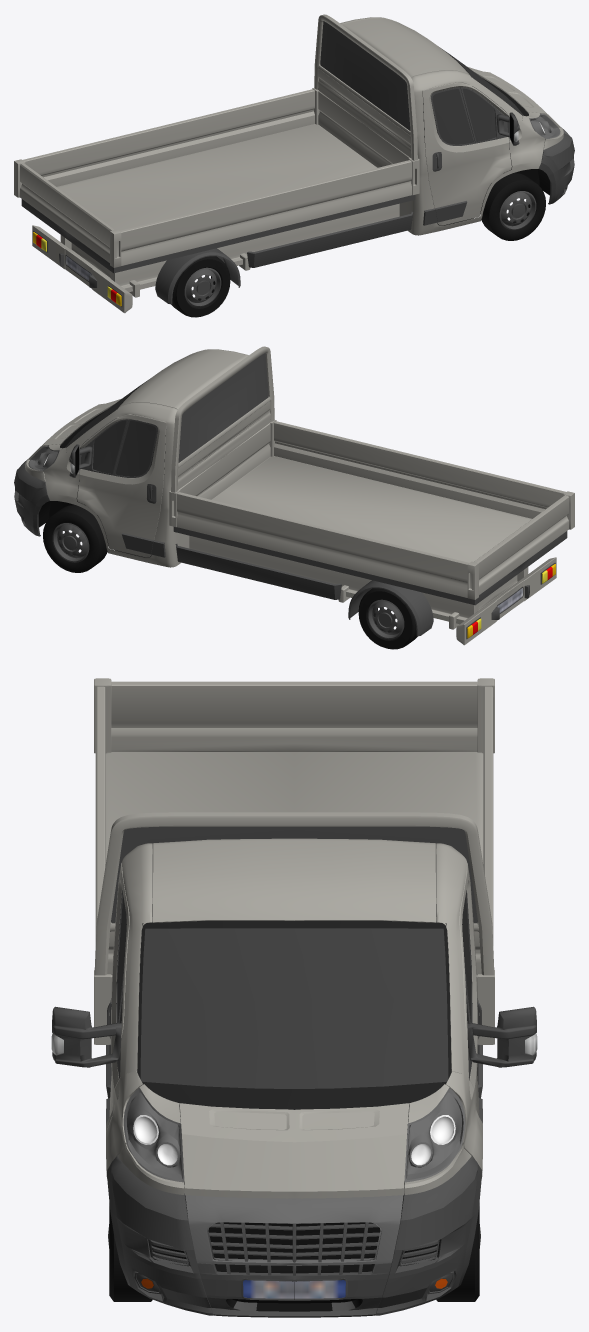
The model's file is xiaohuoche002.fbx.
3 views of the same model, one above another, from view 1: azimuth 30°, elevation 25°; view 2: azimuth 150°, elevation 25°; view 3: azimuth 270°, elevation 25° (orthographic). The views are drawn at different scales.
Visible parts, largest first — view 1: xiaohuoche002; view 2: xiaohuoche002; view 3: xiaohuoche002.
Part boxes in pixels (x1,y1,x2,y2): xiaohuoche002: (14, 14, 574, 317); xiaohuoche002: (14, 346, 574, 649); xiaohuoche002: (51, 678, 537, 1317).
Bounding box in the file's own units: 5.59 × 2.07 × 2.4.
2 materials, 2 textured.
